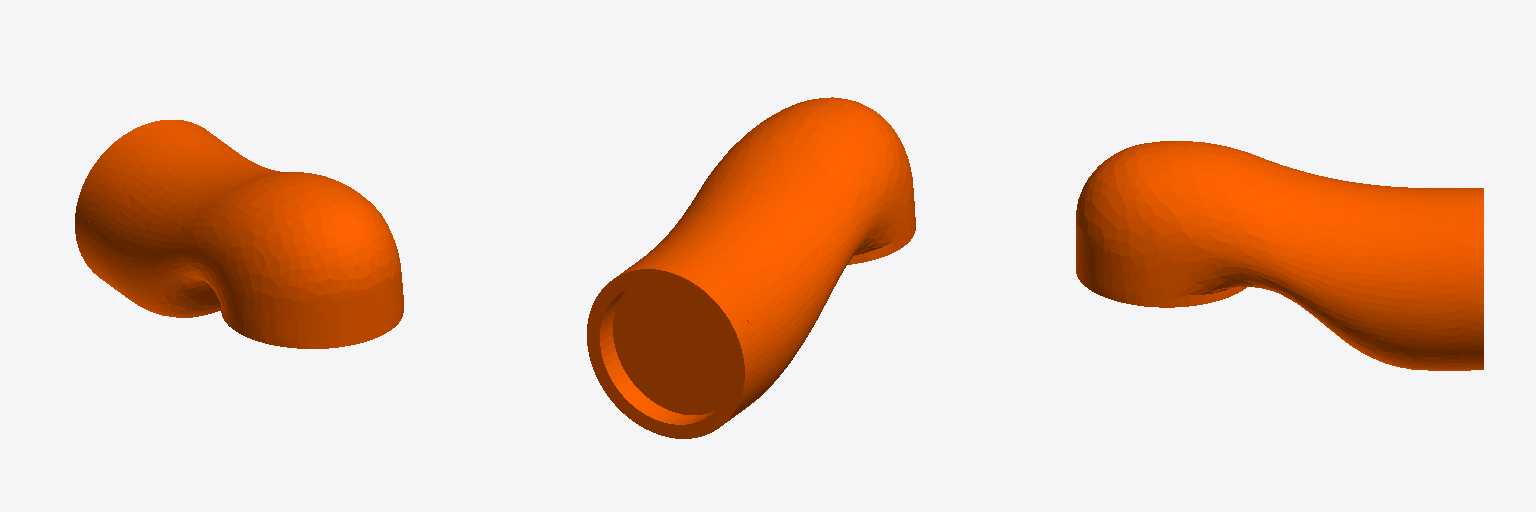
3 views of the same model, side by side, from view 1: azimuth 30°, elevation 25°; view 2: azimuth 150°, elevation 25°; view 3: azimuth 270°, elevation 25° (orthographic).
Parts seen in each view (by area): view 1: link4_object.005; view 2: link4_object.005; view 3: link4_object.005.
Boxes of the visible parts, x1=… form: link4_object.005: x1=75, y1=120, x2=403, y2=348; link4_object.005: x1=587, y1=97, x2=915, y2=438; link4_object.005: x1=1076, y1=141, x2=1483, y2=370.
Size of the model in its own units: 0.12 by 0.1537 by 0.2686.